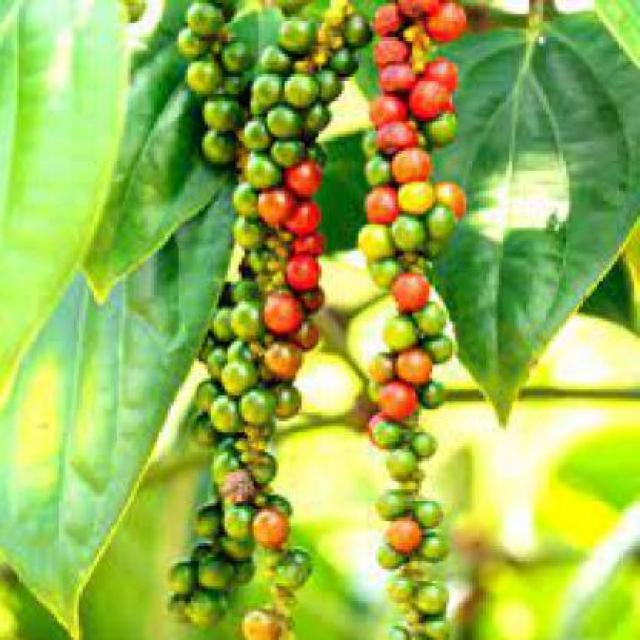RIPE: (364, 0, 475, 506), (247, 159, 327, 410)
